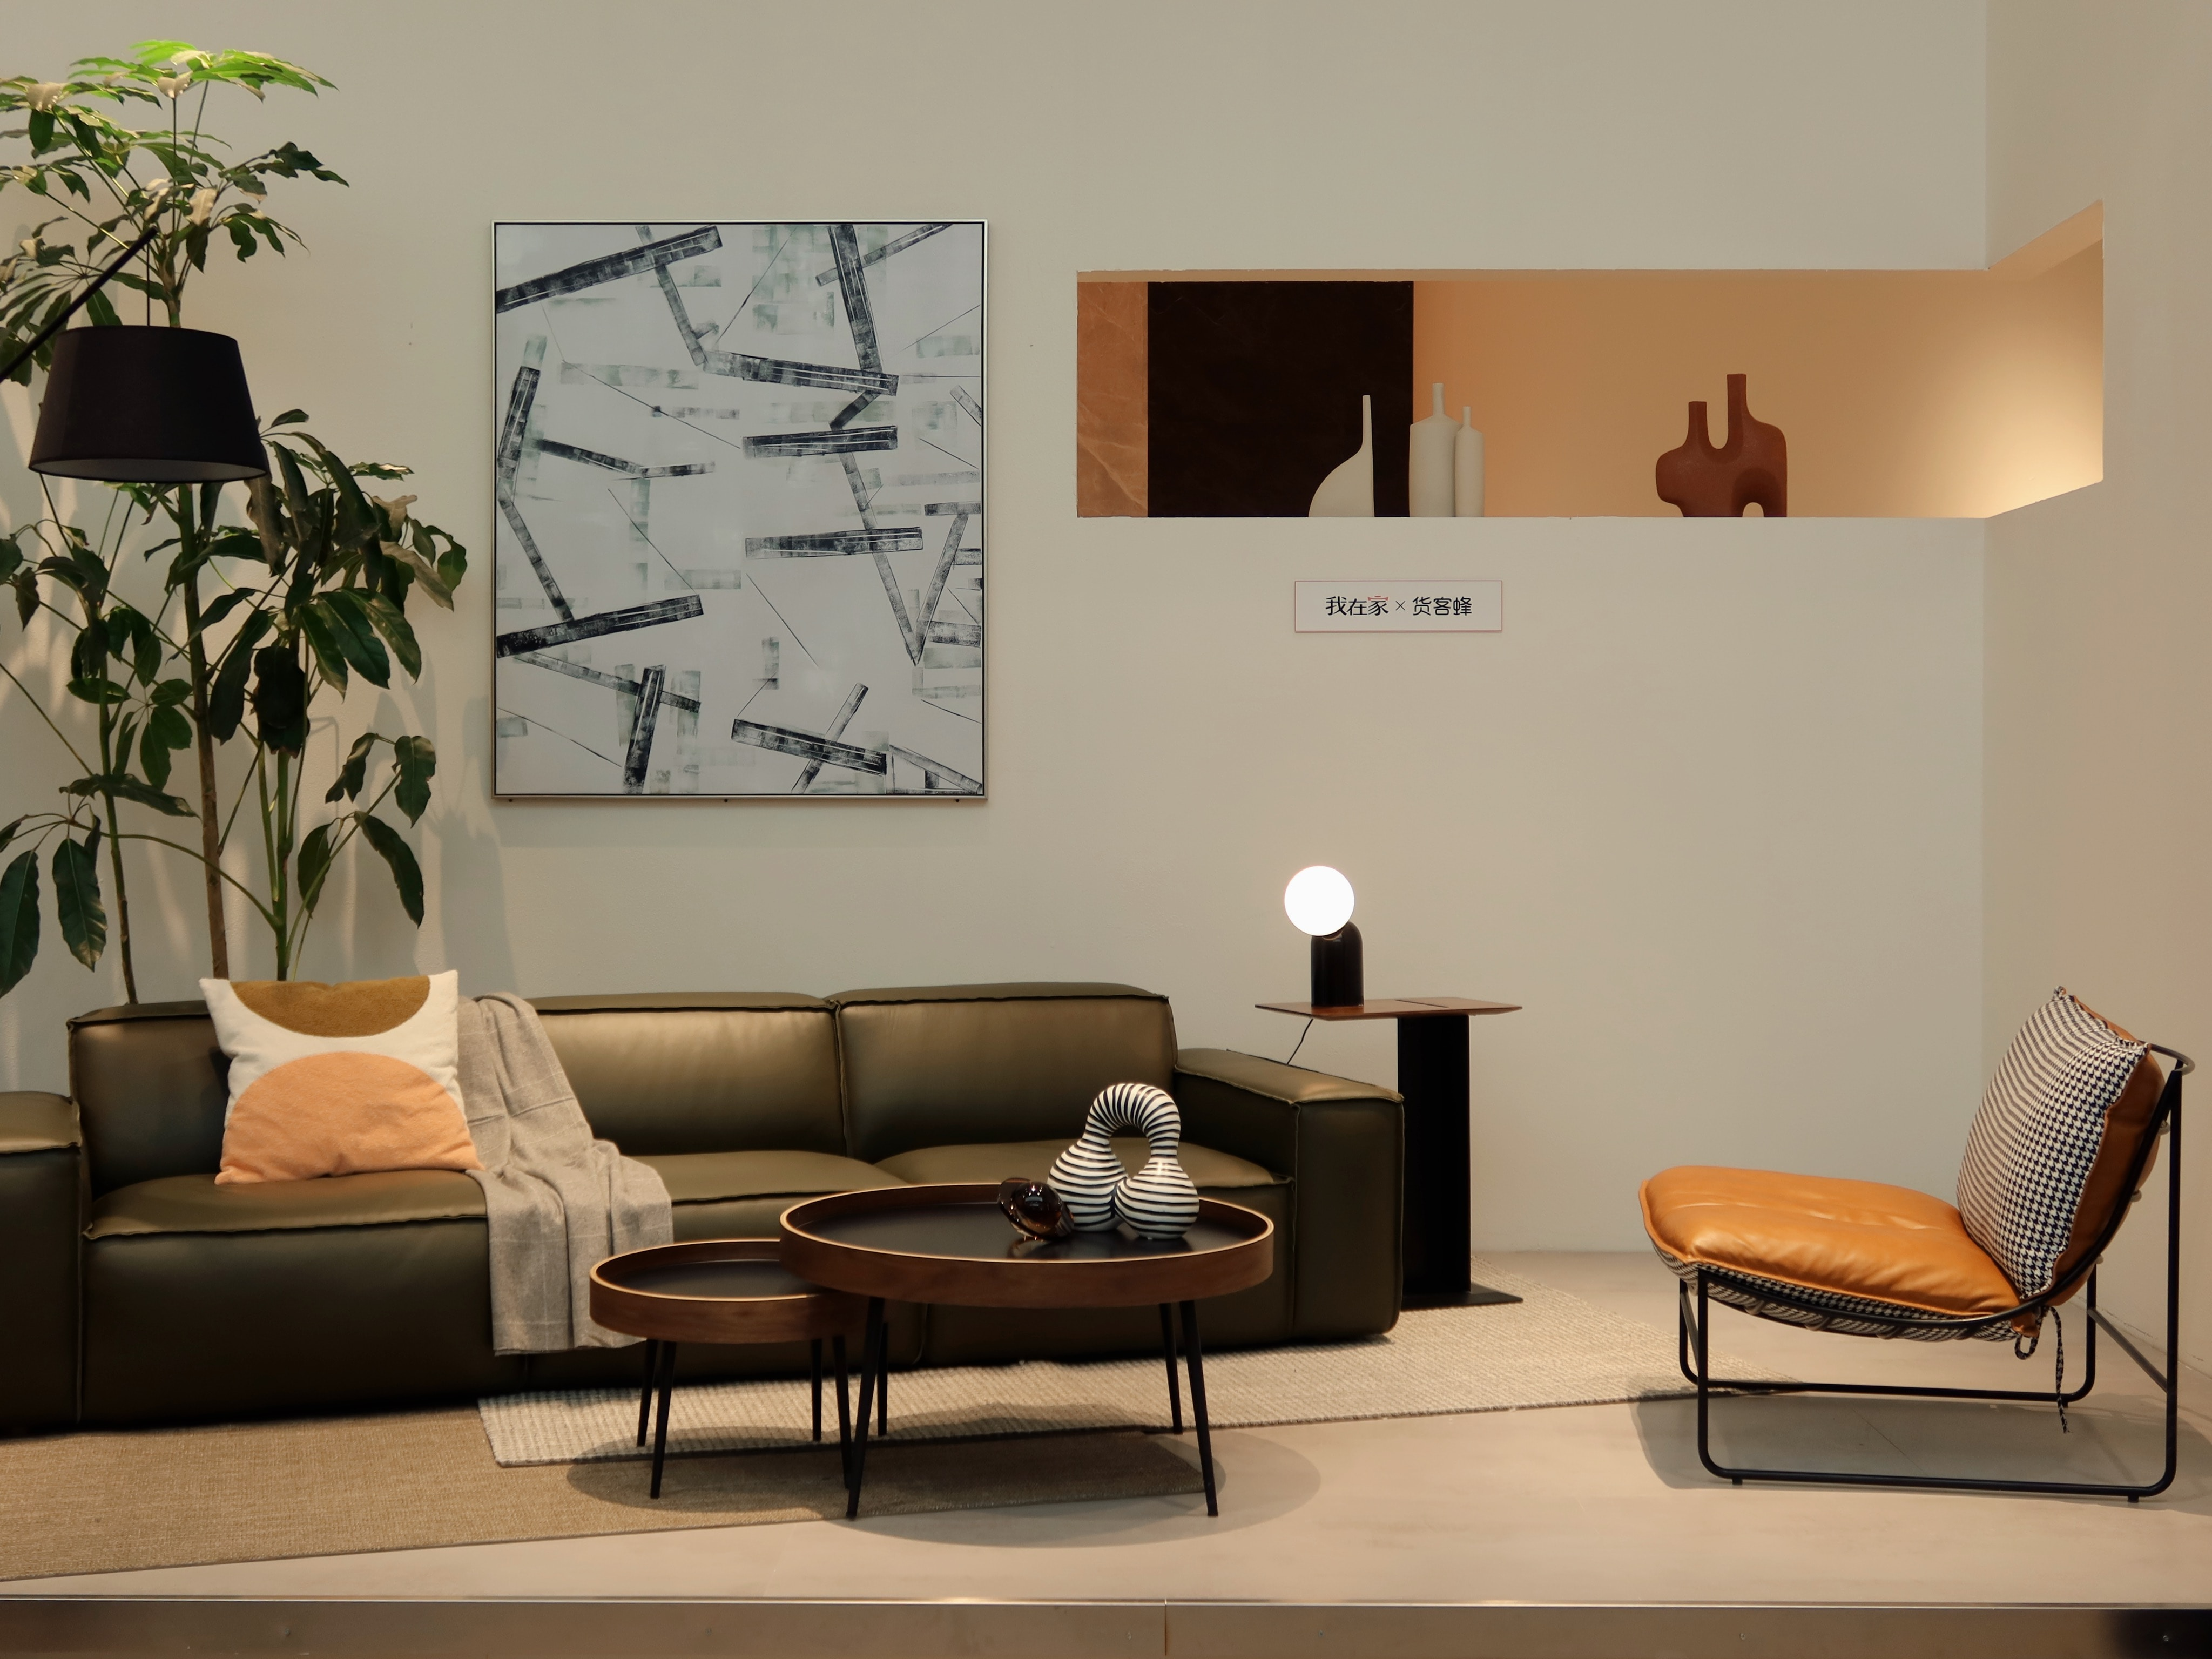Chair: (1632, 983, 2198, 1518)
Painting: (467, 202, 1012, 823)
Sofa: (3, 946, 1413, 1446)
Table: (587, 1124, 1299, 1530)
